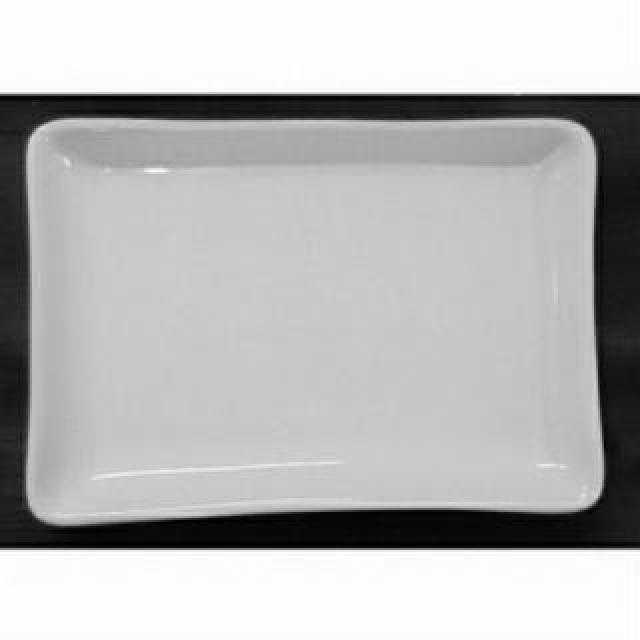plate: (16, 108, 628, 530)
